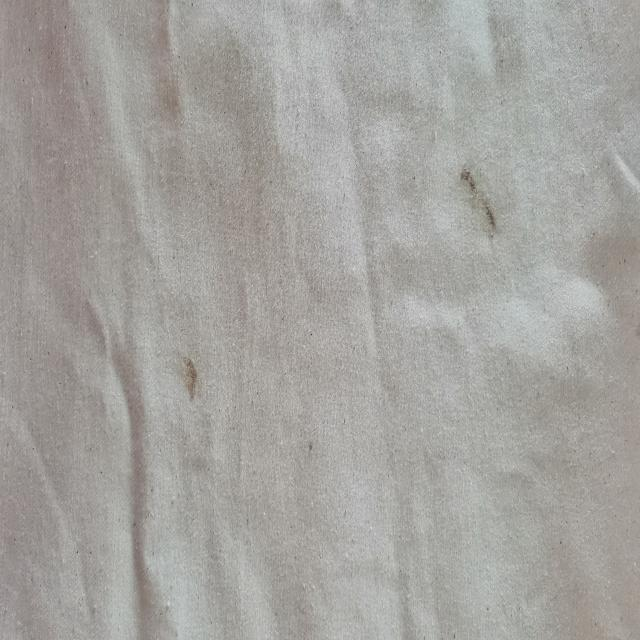taaaches: (457, 156, 503, 253), (180, 349, 202, 410)
